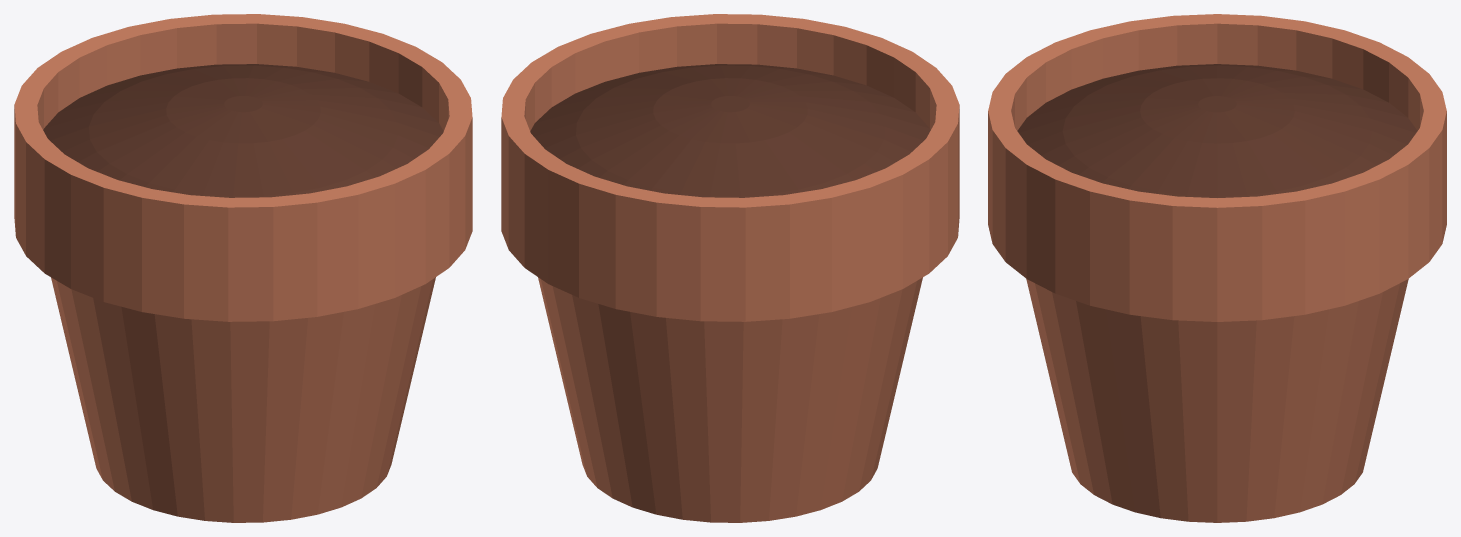
File: Pot.glb
3 views of the same model, side by side, from view 1: azimuth 30°, elevation 25°; view 2: azimuth 150°, elevation 25°; view 3: azimuth 270°, elevation 25° (orthographic).
Visible parts, largest first — view 1: Pot; view 2: Pot; view 3: Pot.
Part boxes in pixels (left/top/right/bottom): Pot: left=14, top=14, right=472, bottom=522; Pot: left=501, top=14, right=959, bottom=522; Pot: left=988, top=14, right=1446, bottom=522.
Size of the model in its own units: 3.09 by 2.65 by 3.09.
Materials: 1 (1 with a texture image).
